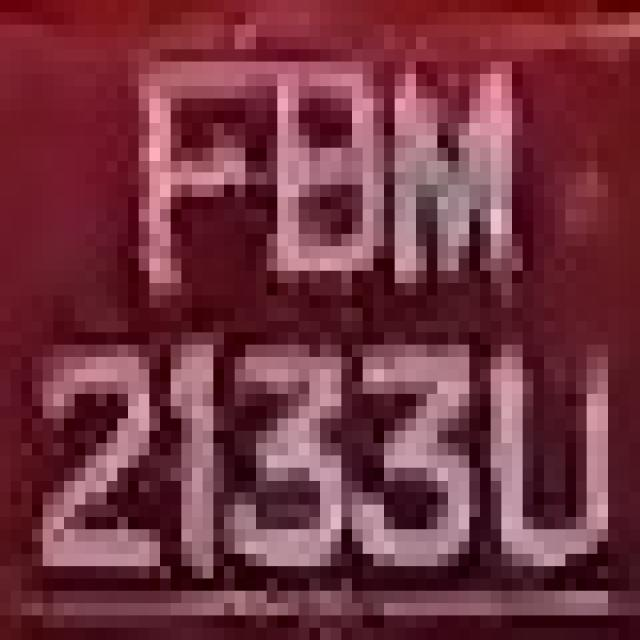1: (170, 308, 234, 590)
2: (0, 308, 171, 603)
3: (224, 308, 363, 603), (352, 320, 480, 603)
B: (234, 37, 394, 320)
F: (106, 25, 266, 320)
M: (374, 62, 534, 320)
U: (469, 308, 619, 566)
